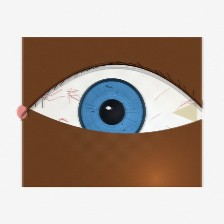pterygium_lesion: (169, 99, 200, 125)
